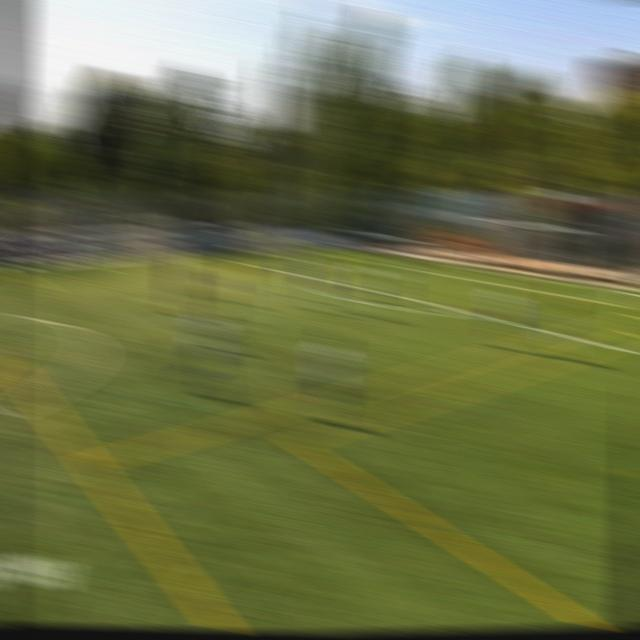bigarea_top_outter: (355, 247, 377, 257)
bottom_arc_area_intersection: (461, 302, 490, 325)
corner: (323, 243, 345, 252)
smallarea_bottom_inner: (588, 295, 618, 310)
smallarea_bottom_outter: (626, 286, 640, 304)
smallarea_top_inner: (392, 260, 418, 278)
smallarea_top_outter: (429, 258, 455, 273)
